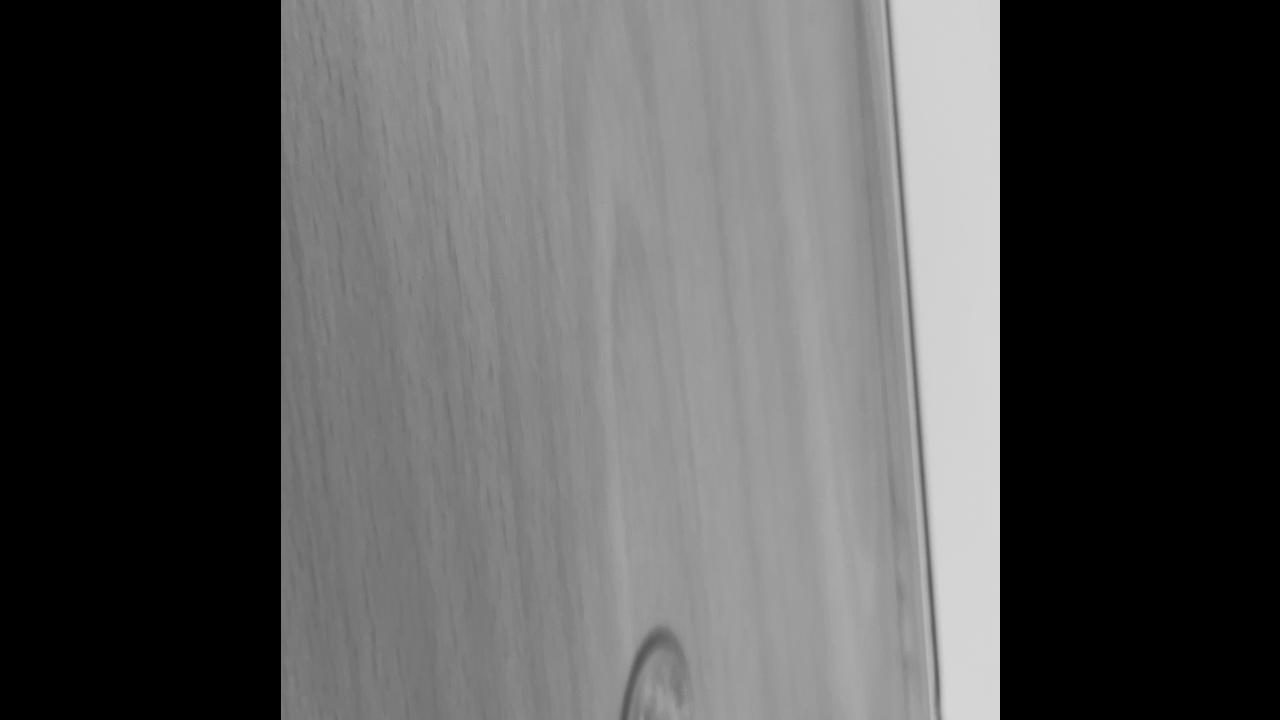coin: (618, 632, 694, 720)
